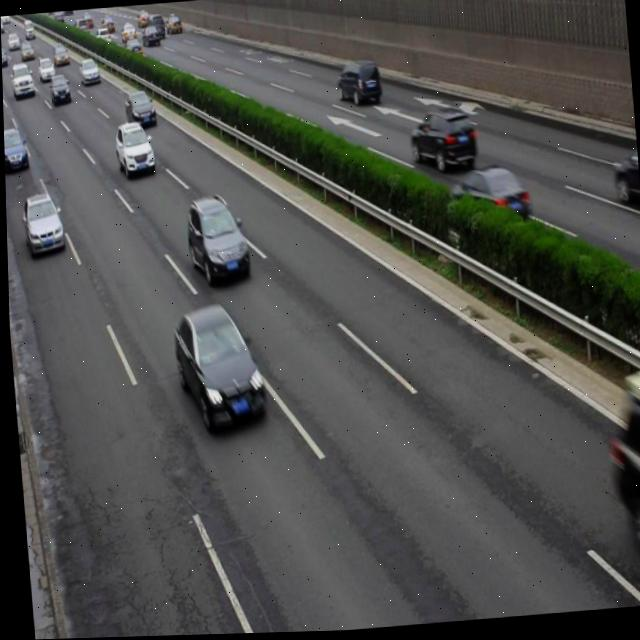car: (170, 304, 266, 439), (606, 376, 640, 581), (183, 192, 251, 289), (448, 164, 528, 236), (405, 107, 477, 176), (21, 191, 65, 259), (112, 120, 155, 181), (334, 58, 382, 112), (123, 89, 158, 132), (3, 124, 29, 174)
